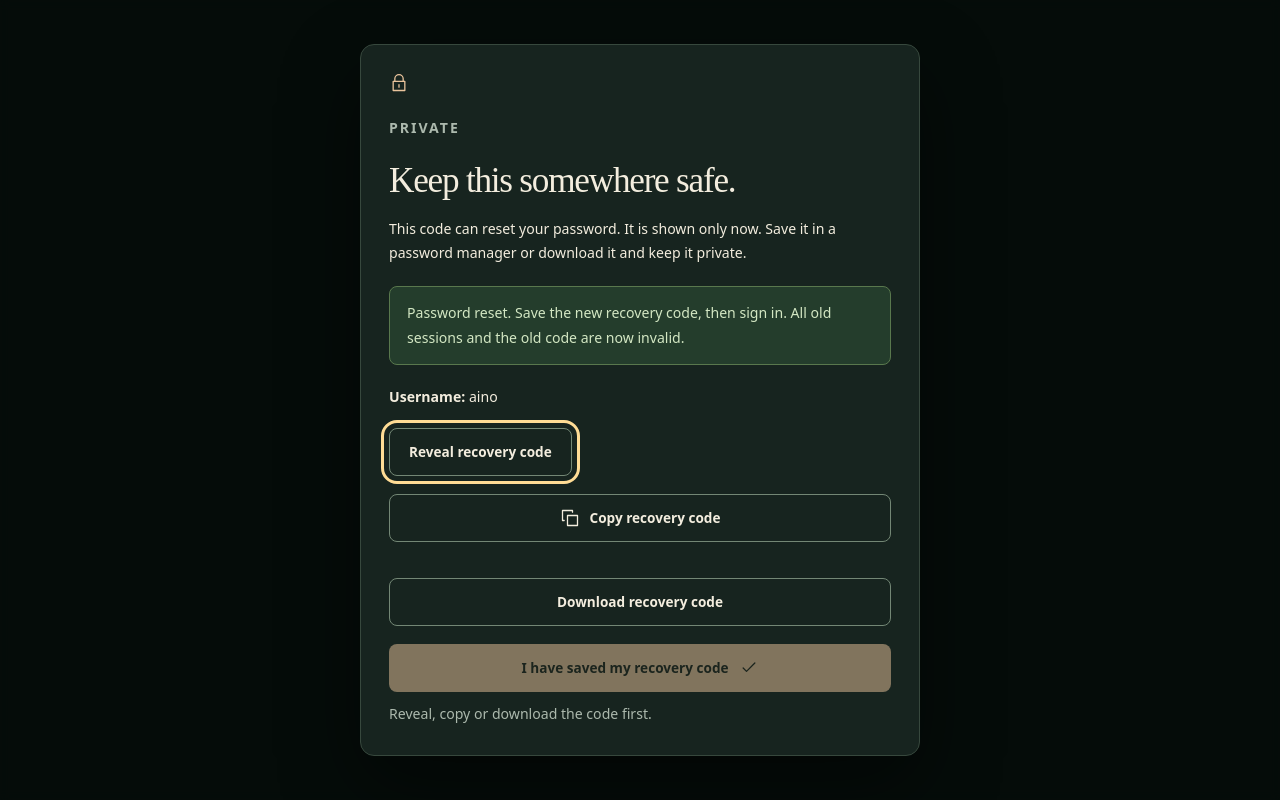
Test: keeps recovery secrets hidden from the screen and accessibility tree until revealed
The width and height of the screenshot is (1280, 800).
Later steps or results of the test are not shown.
Expected: the text "test-only-recovery-code" is not shown
Expected: the button "I have saved my recovery code" is disabled, [389,644,891,692]
Click the button "Reveal recovery code".
click(480, 452)  # box [389,428,572,476]
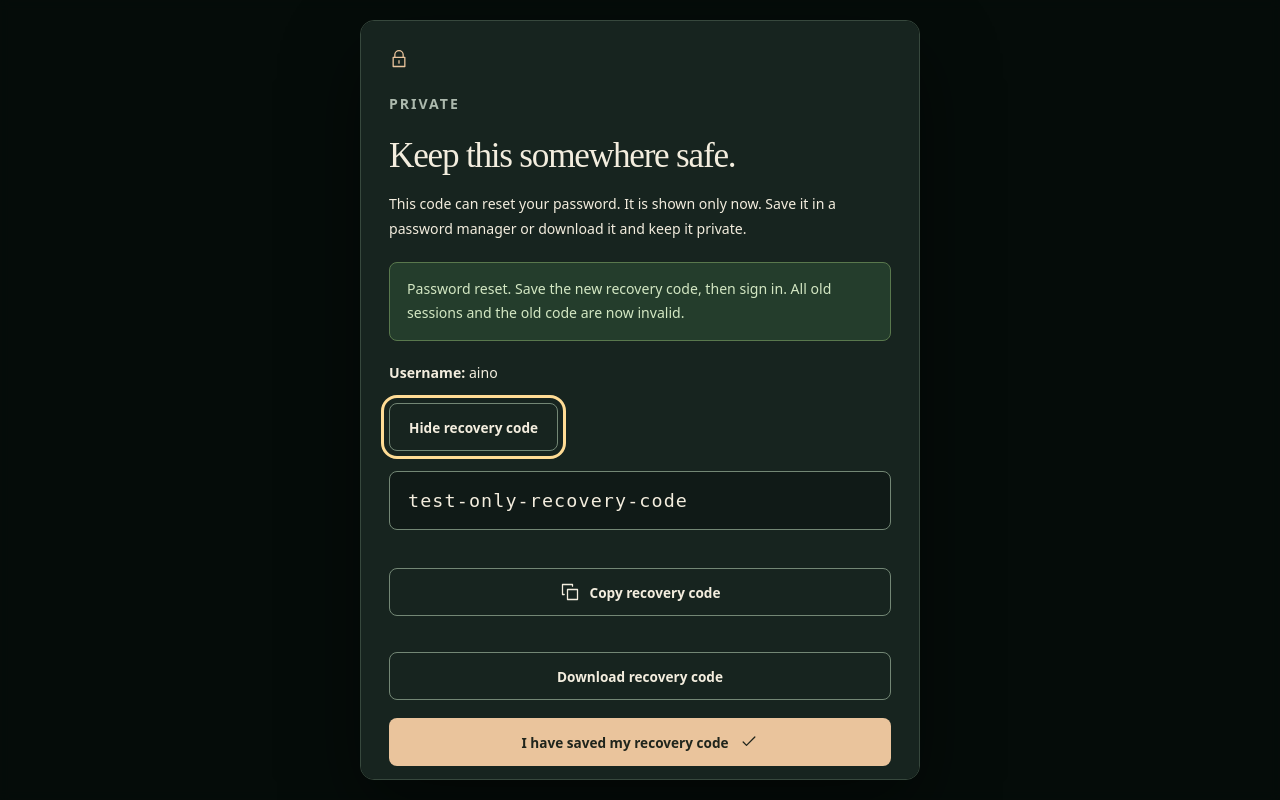
Expected: the text "test-only-recovery-code" is shown, [389,472,891,530]
Expected: the text "Reveal, copy or download the code first." is gone
